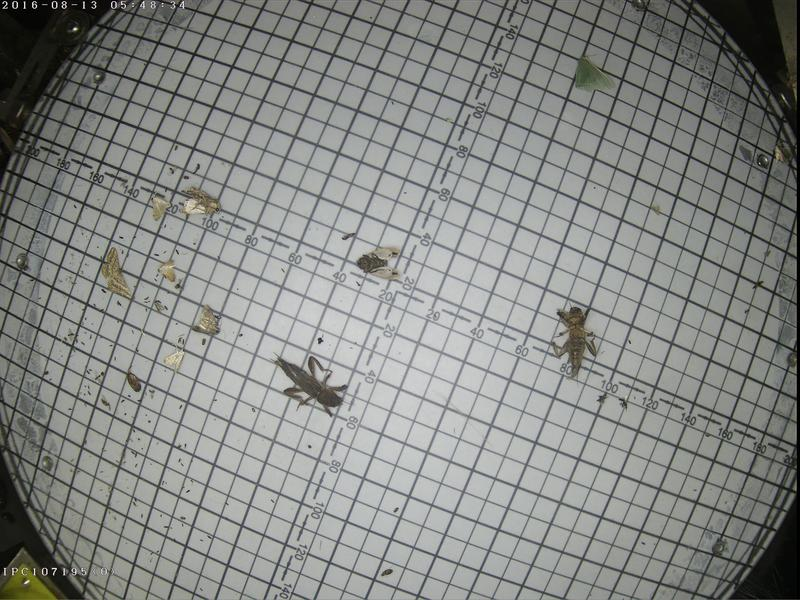Gryllotalpa orientalis: (266, 349, 354, 417), (540, 299, 607, 386)
Spodoptera litura: (176, 183, 219, 215)
